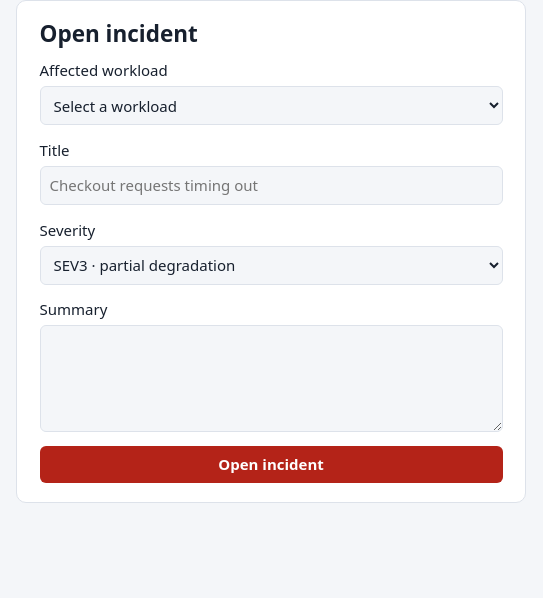
Test: NewIncidentPage › keeps the form and shows field errors when the API rejects it
Select "Payments API" in the dropdown labelled "Affected workload" at [271, 106], box x1=40 y1=86 x2=502 y2=125
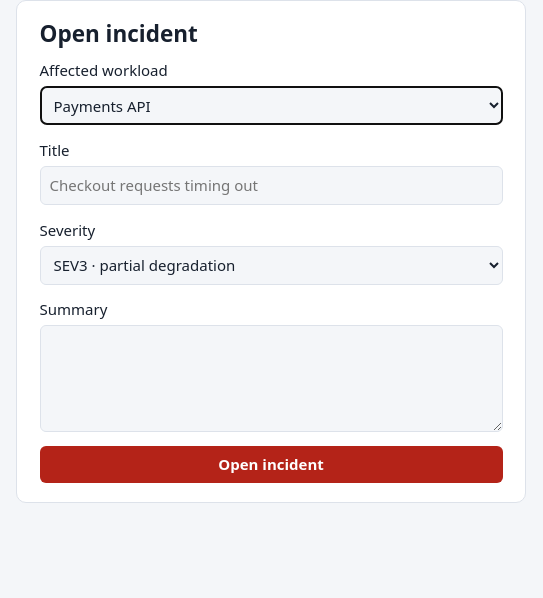
Type "Checkout failing" into the field labelled "Title" at [271, 185], box x1=40 y1=166 x2=502 y2=205
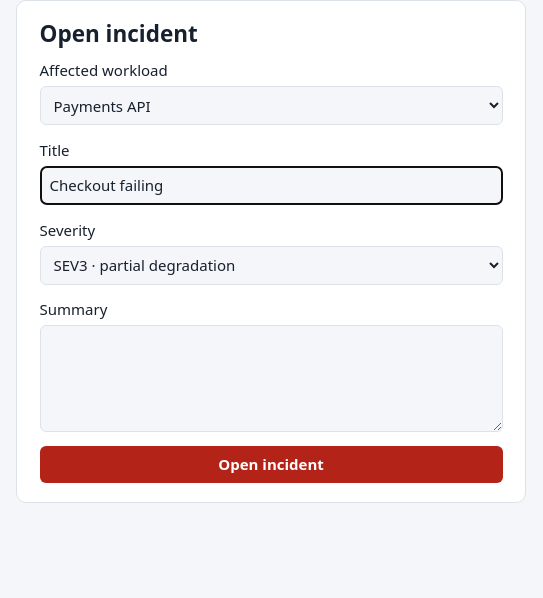
Click the button "Open incident" at [271, 464], box x1=40 y1=446 x2=502 y2=483
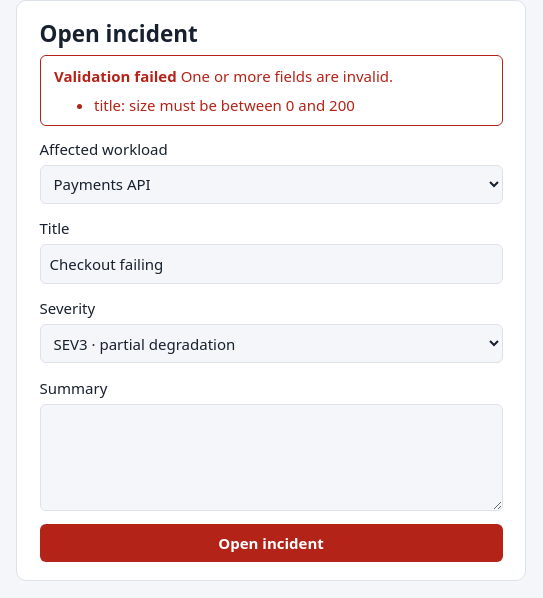
Expected: the button "Open incident" is enabled, x1=40 y1=524 x2=502 y2=562
Expected: the message shows "Validation failed", x1=54 y1=66 x2=177 y2=86
Expected: the message shows "title: size must be between 0 and 200", x1=40 y1=55 x2=502 y2=126
